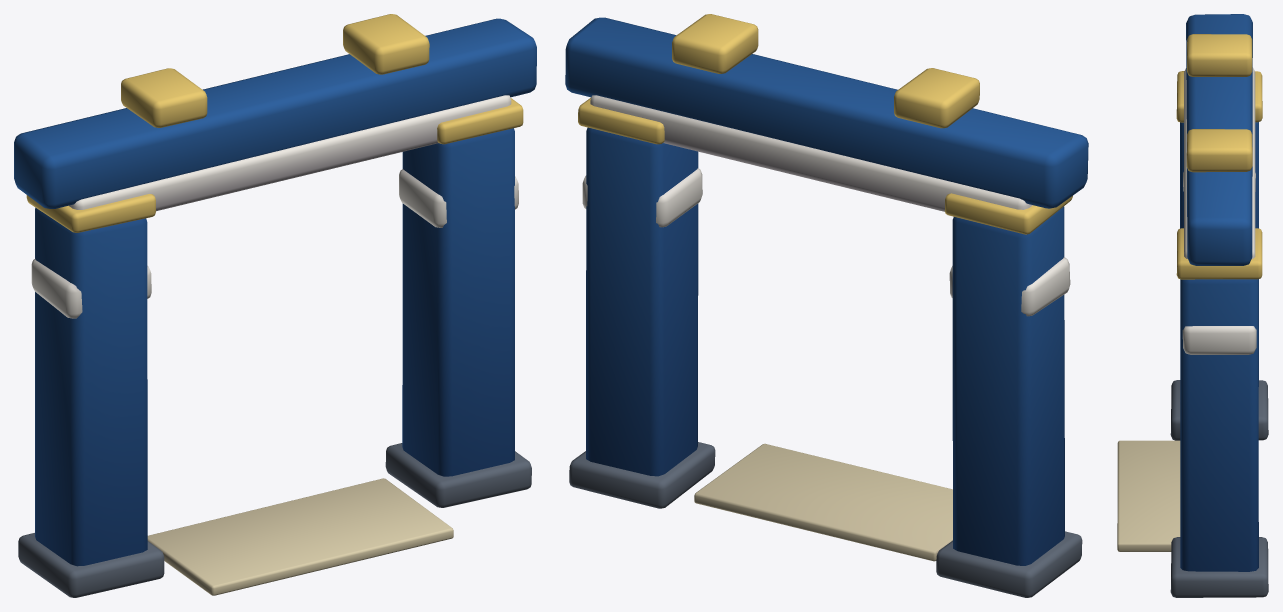
The picture shows the model from 3 angles, left to right: view 1: azimuth 30°, elevation 25°; view 2: azimuth 150°, elevation 25°; view 3: azimuth 270°, elevation 25°; orthographic projection. The views are drawn at different scales.
Visible parts, largest first — view 1: gate_641849e8; view 2: gate_641849e8; view 3: gate_641849e8.
Boxes of the visible parts, x1,y1,x2,y2 form: gate_641849e8: (14, 14, 536, 597); gate_641849e8: (565, 14, 1088, 597); gate_641849e8: (1117, 14, 1268, 597).
Size of the model in its own units: 4.9 by 4.44 by 1.48.
